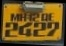character: (4, 22, 18, 38), (18, 21, 32, 37), (33, 21, 47, 37), (47, 21, 59, 37), (10, 13, 19, 22), (19, 13, 26, 21)
